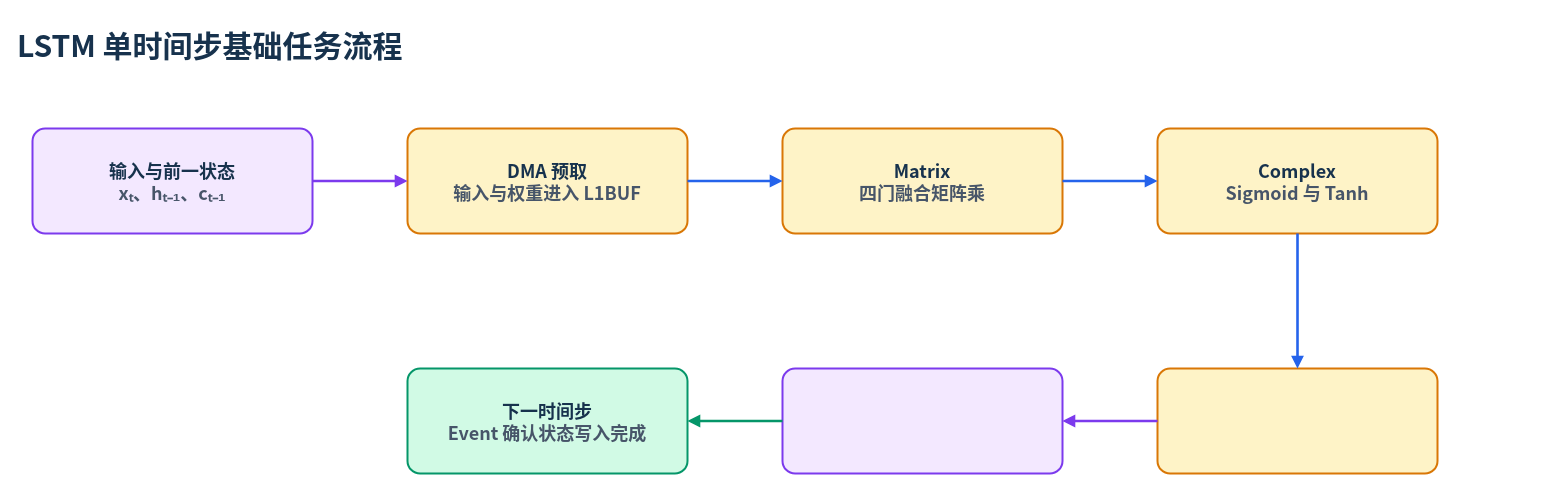
Some shapes in this 1554 by 491 pixel diagram are drawn without their labels. The shapes that lost their labels are listed below. From the top down, each one's centre as x and y in pixels, then its label:
[922,420]: L1BUF 状态区 保存 hₜ 与 cₜ
[1297,420]: Vector / Complex 更新 cₜ 与 hₜ
